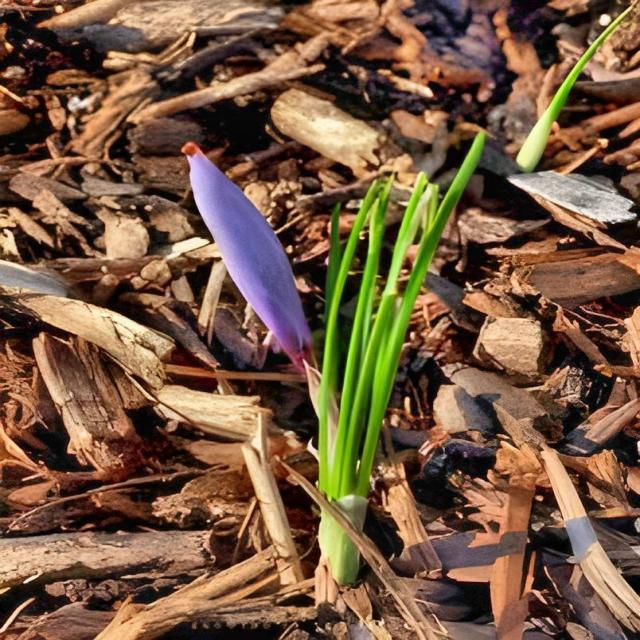Flower: (174, 136, 322, 375)
